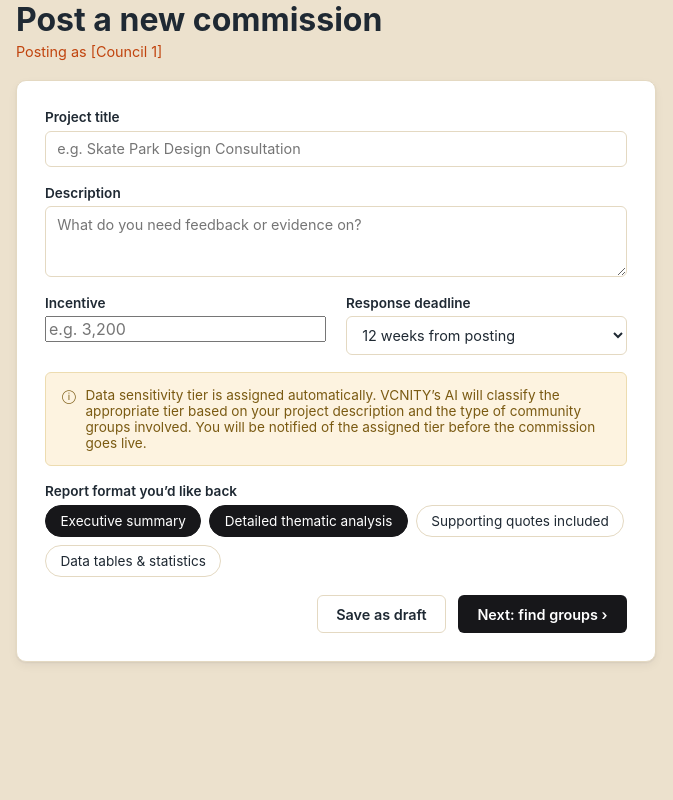
Scenario: PostCommissionPage — step 2 (find groups questionnaire) › keeps "Analyse & suggest groups" disabled until all four questions are answered
The width and height of the screenshot is (673, 800).
Type "Community Garden Feedback" into the field labelled "Project title" at (336, 149), box [45,131,627,167]
Type "1500" into the number field labelled "Incentive" at (186, 329), box [45,316,326,342]
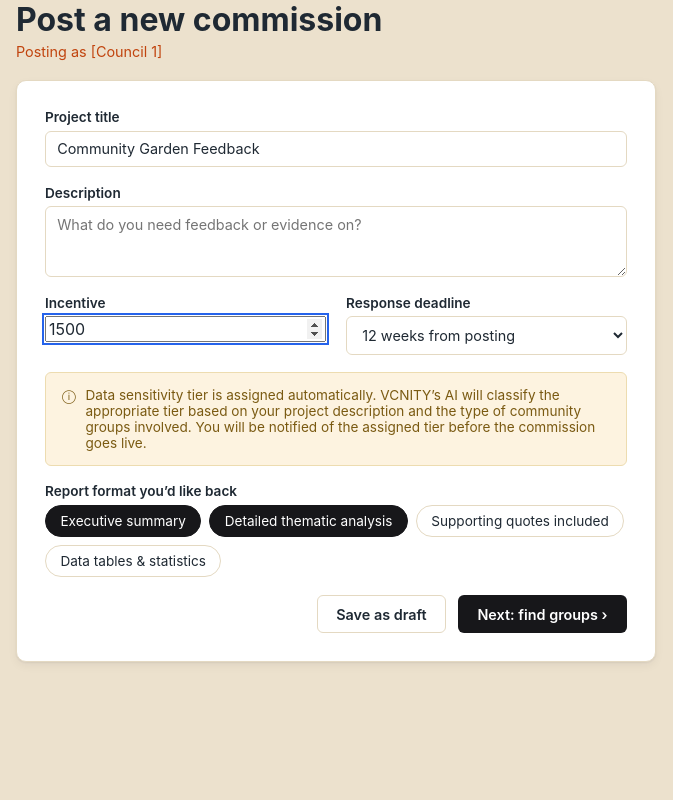
Click the button "Next: find groups ›" at (542, 614), box [458,595,627,633]
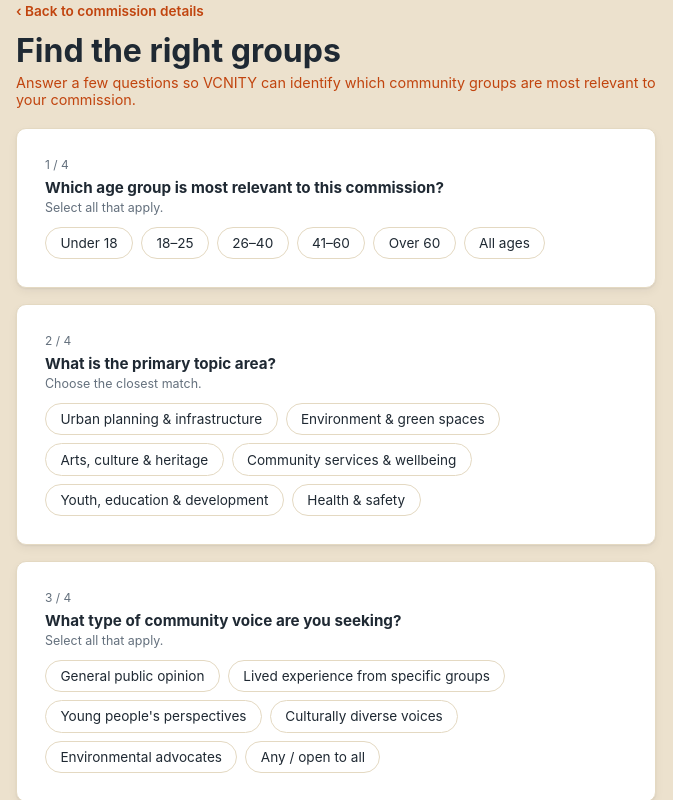
Result: the heading "Find the right groups" is shown at [16,31,341,70]
Click the button "Under 18" at (89, 243), box [45,227,133,259]
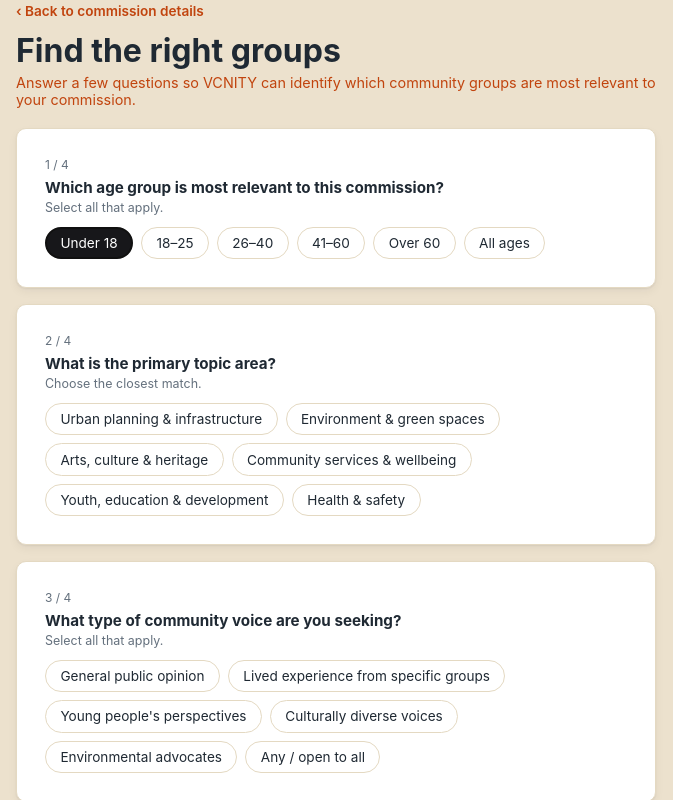
Click the button "Urban planning & infrastructure" at (161, 419), box [45,403,278,435]
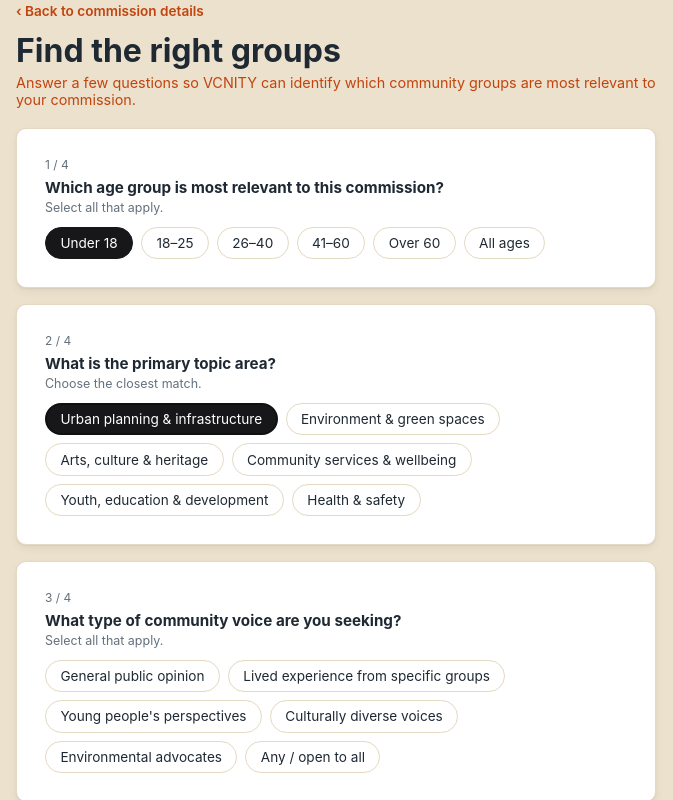
Click the button "General public opinion" at (132, 676), box [45,660,220,692]
(page scrolled)
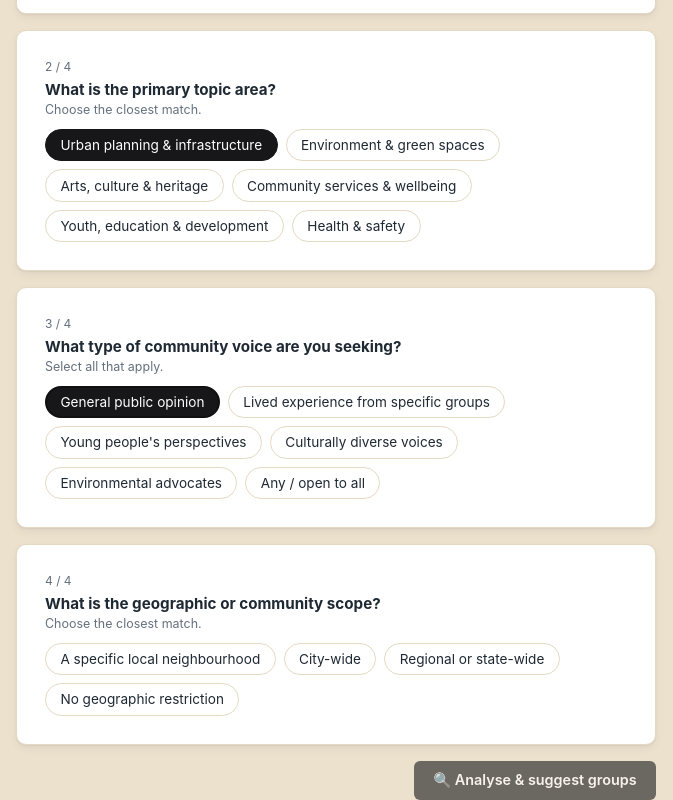
Click the button "A specific local neighbourhood" at (160, 659), box [45,643,276,675]
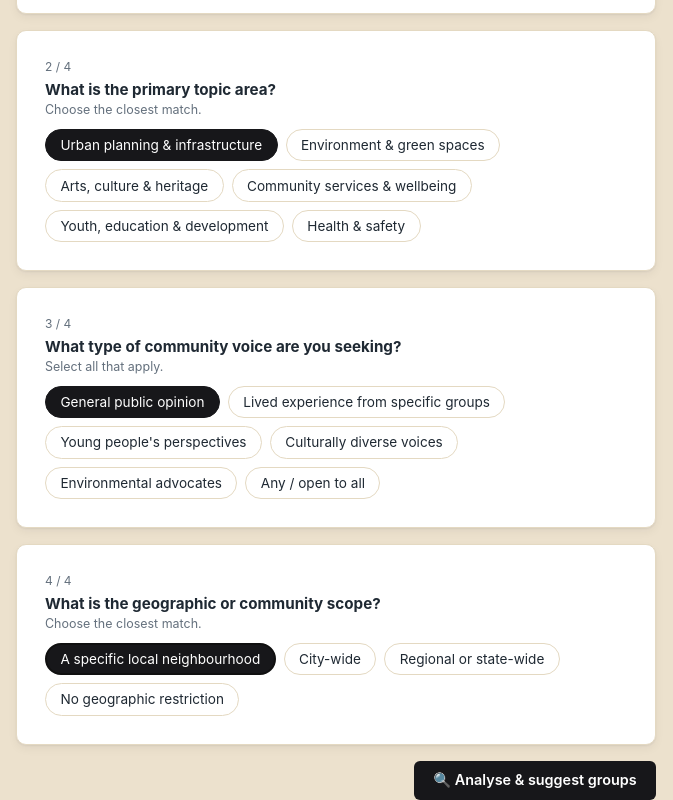
Result: the button "🔍 Analyse & suggest groups" is enabled at [414,760,656,799]
